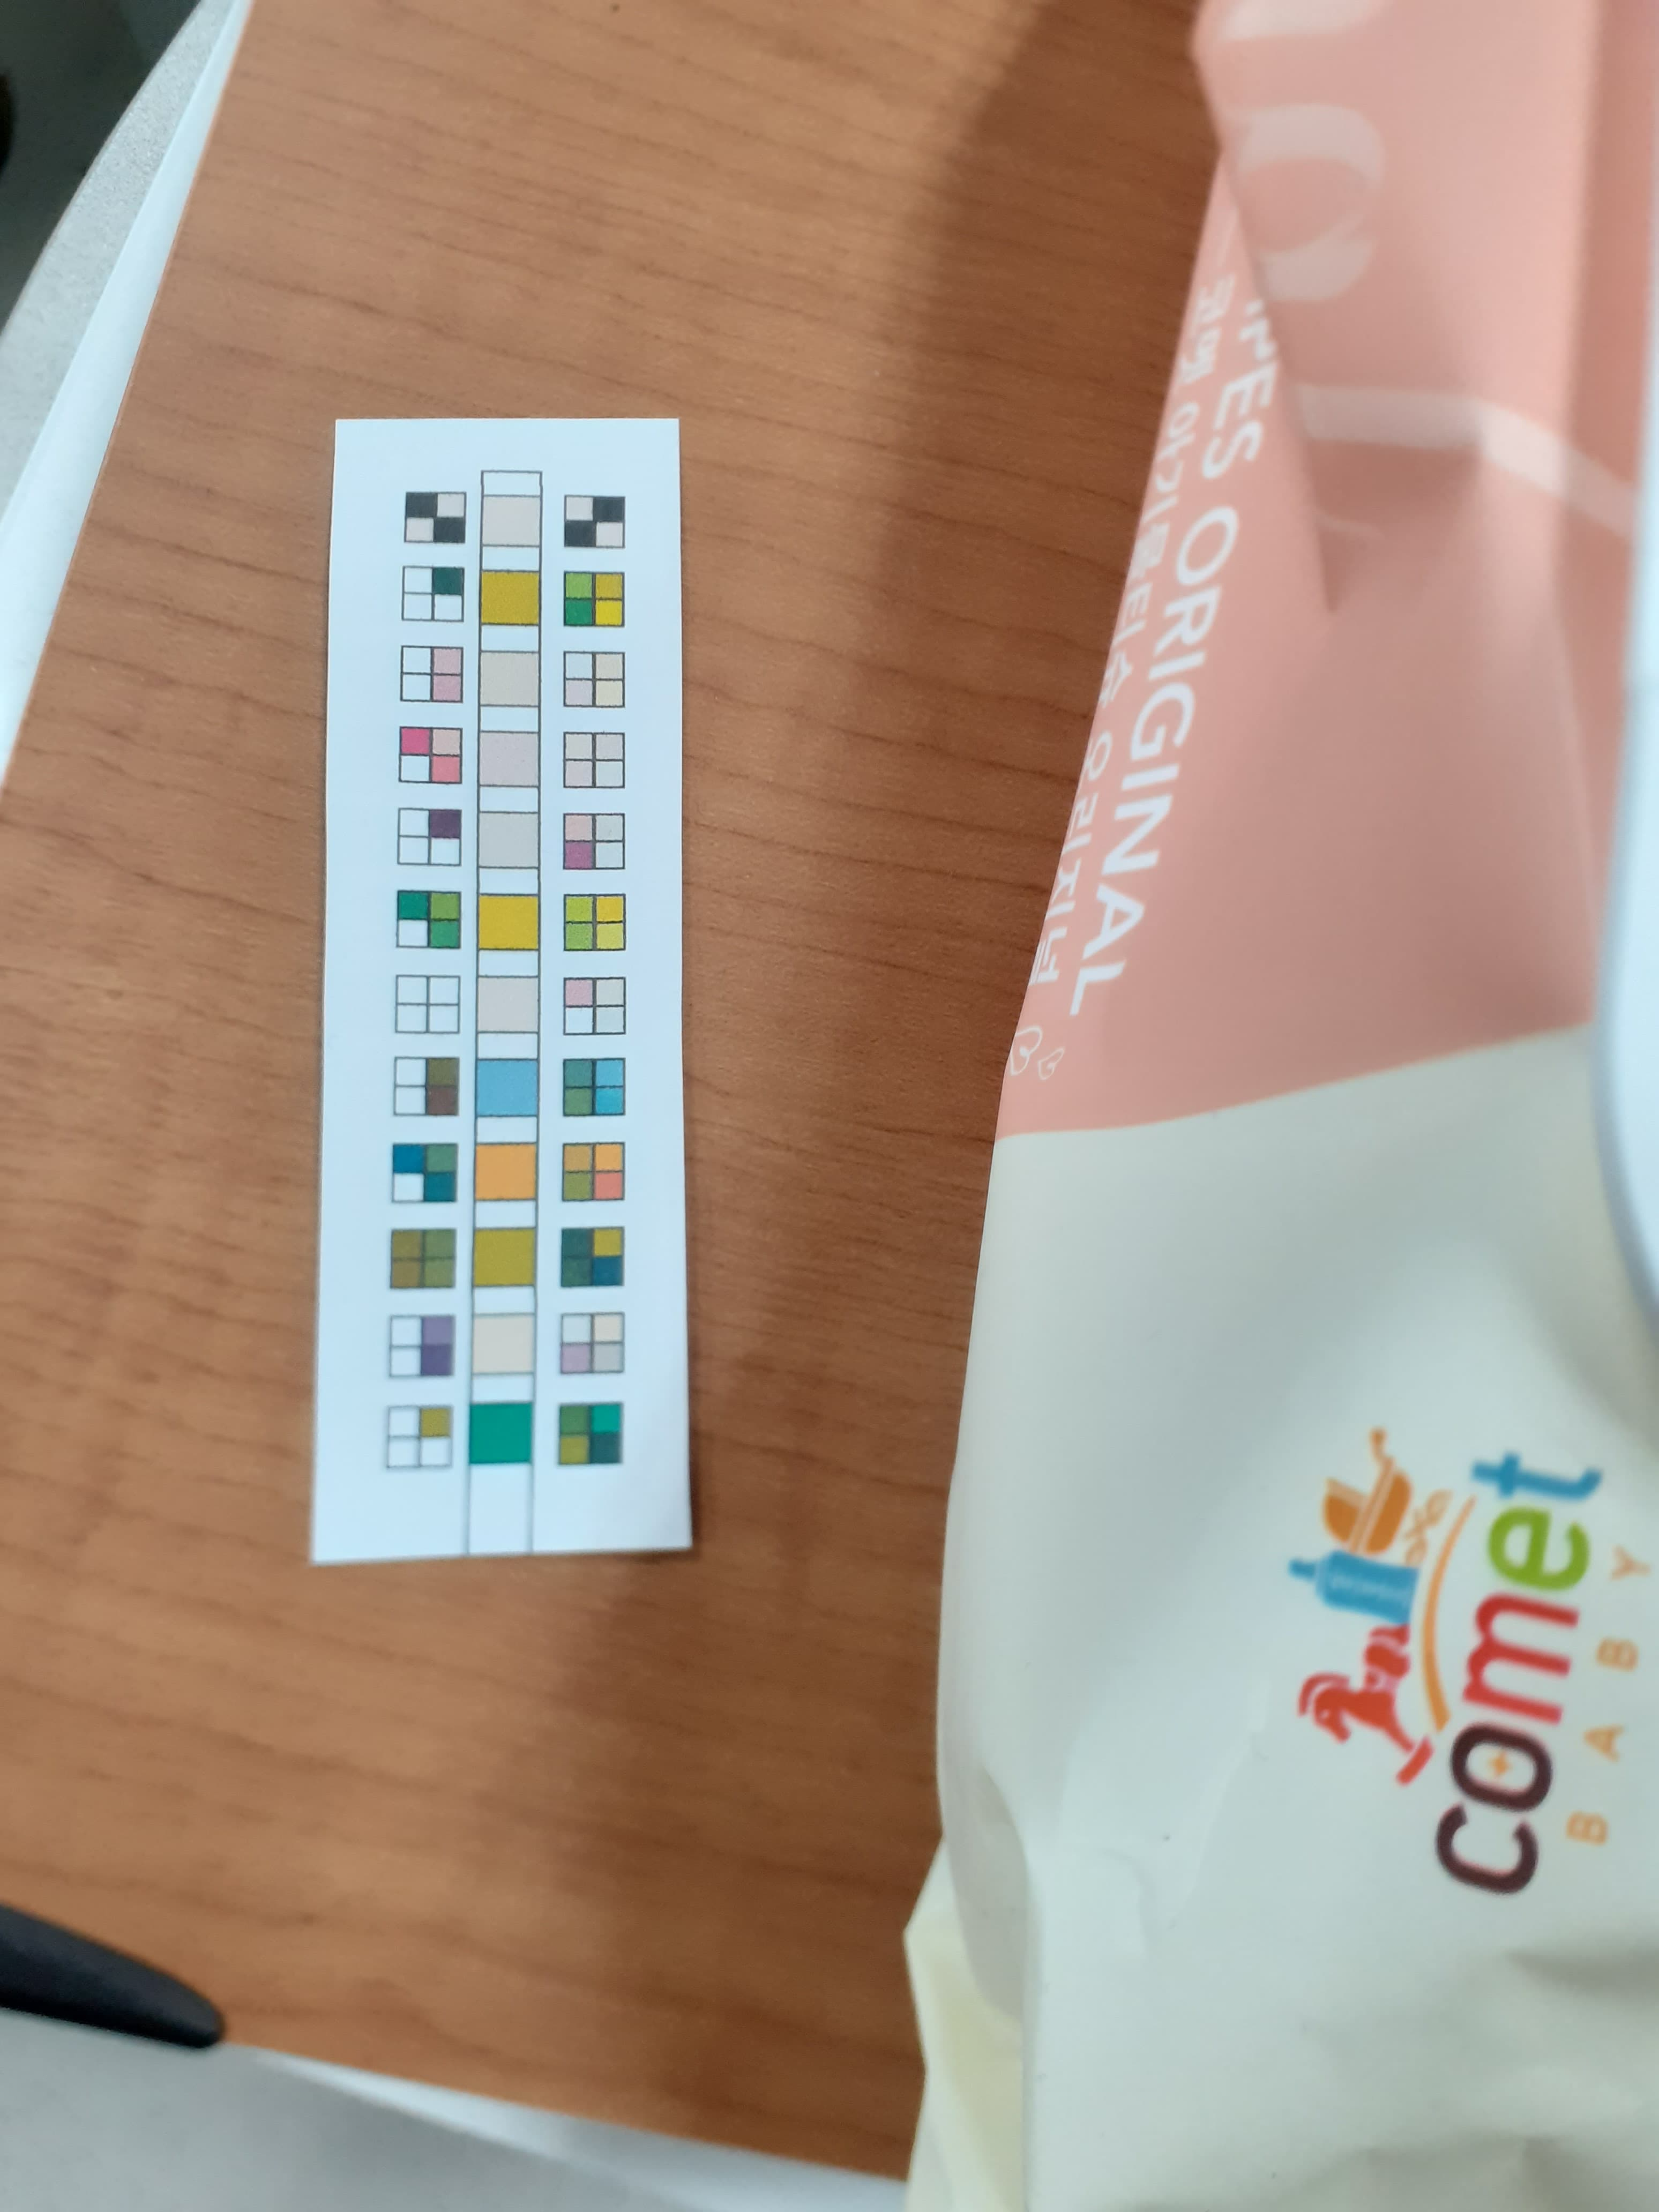tester: (329, 418, 695, 1555)
